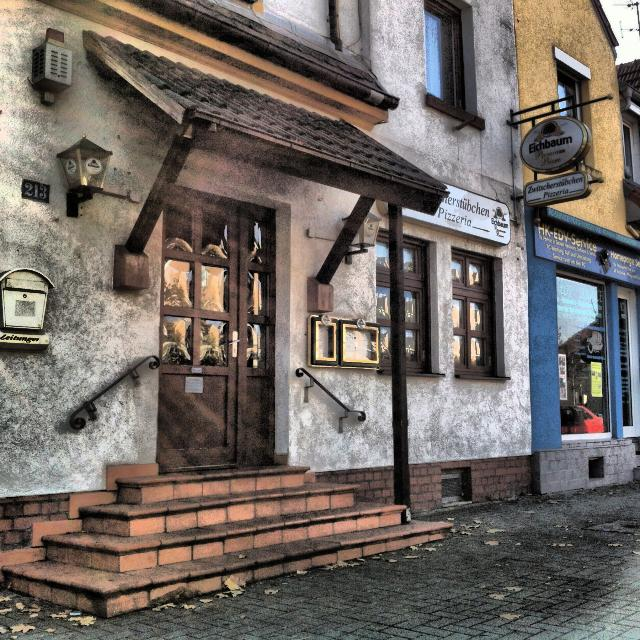escada: (4, 467, 454, 620)
